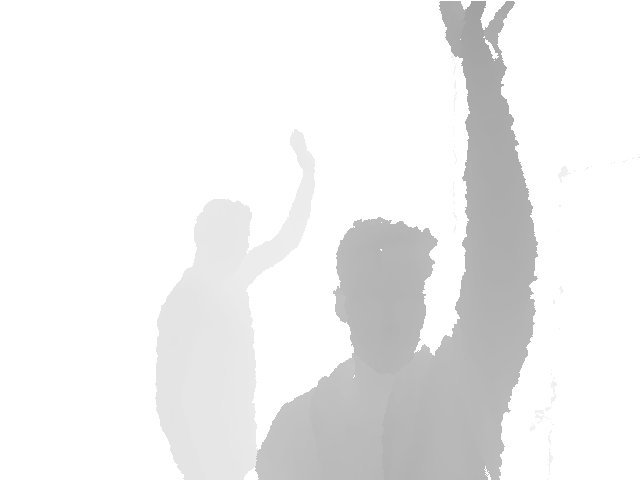hand: (438, 1, 517, 88), (291, 129, 316, 178)
head: (334, 216, 440, 371), (191, 199, 253, 279)
person: (253, 1, 538, 480), (153, 130, 316, 479)
